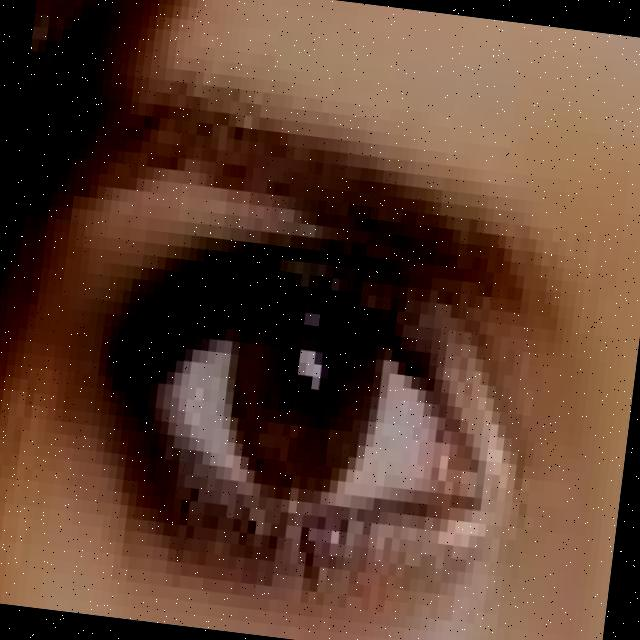Normal: (67, 224, 575, 543)
